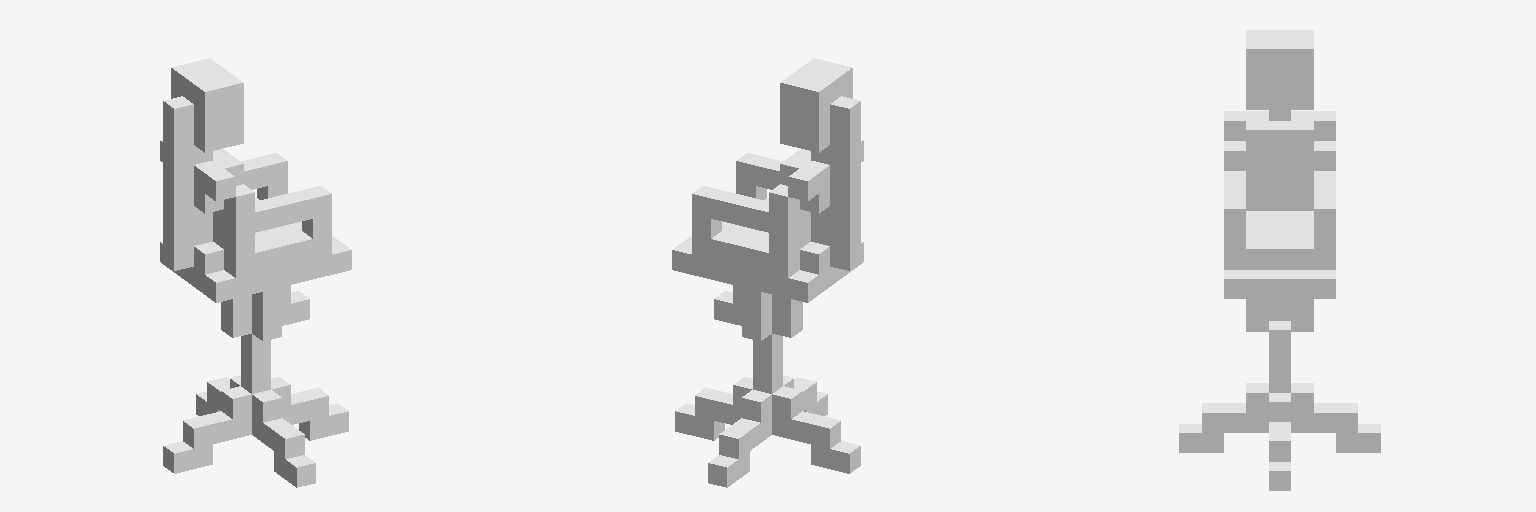
Rendered from BedroomandMainRoom-11.obj.
The picture shows the model from 3 angles: view 1: azimuth 30°, elevation 25°; view 2: azimuth 150°, elevation 25°; view 3: azimuth 270°, elevation 25°; orthographic projection.
Visible parts, largest first — view 1: object 1; view 2: object 1; view 3: object 1.
Part boxes in pixels (left/top/right/bottom): object 1: left=160, top=58, right=351, bottom=487; object 1: left=672, top=58, right=863, bottom=487; object 1: left=1179, top=30, right=1380, bottom=490.
Bounding box in the file's own units: 0.9 × 1.9 × 0.9.